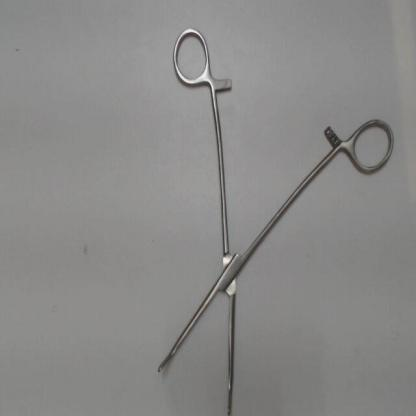Lahey Forceps: (146, 23, 400, 416)
